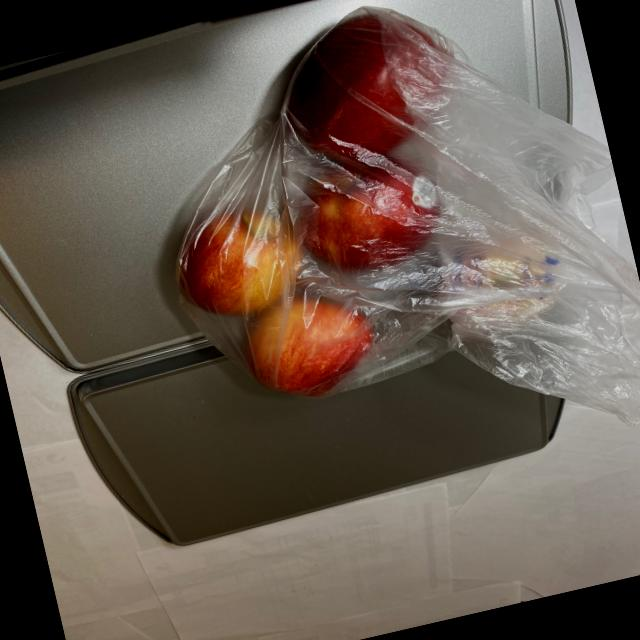apple: (122, 0, 579, 435)
